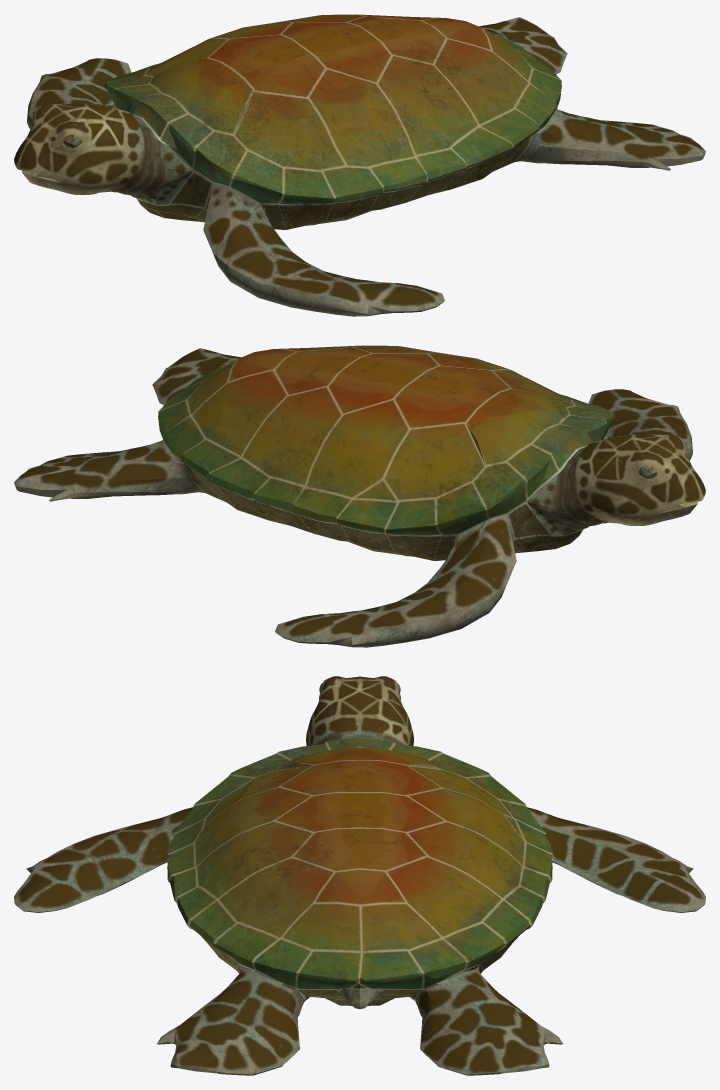
The model's file is Dummy Turtle.fbx.
3 views of the same model, one above another, from view 1: azimuth 30°, elevation 25°; view 2: azimuth 150°, elevation 25°; view 3: azimuth 270°, elevation 25° (orthographic). The views are drawn at different scales.
Visible parts, largest first — view 1: Object_3; view 2: Object_3; view 3: Object_3.
Part boxes in pixels (x1,y1,x2,y2): Object_3: [14, 14, 705, 316]; Object_3: [14, 345, 705, 647]; Object_3: [14, 676, 705, 1075].
Size of the model in its own units: 353 by 75.06 by 341.
Materials: 3 (3 with a texture image).
